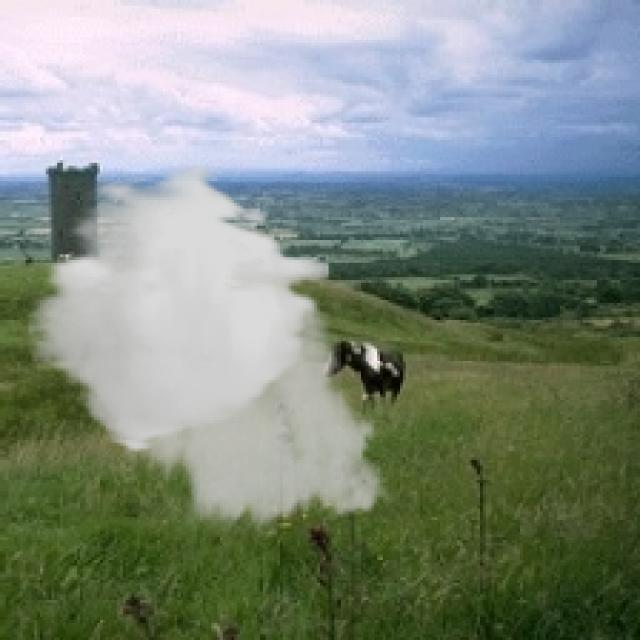Smoke: (28, 163, 400, 540)
